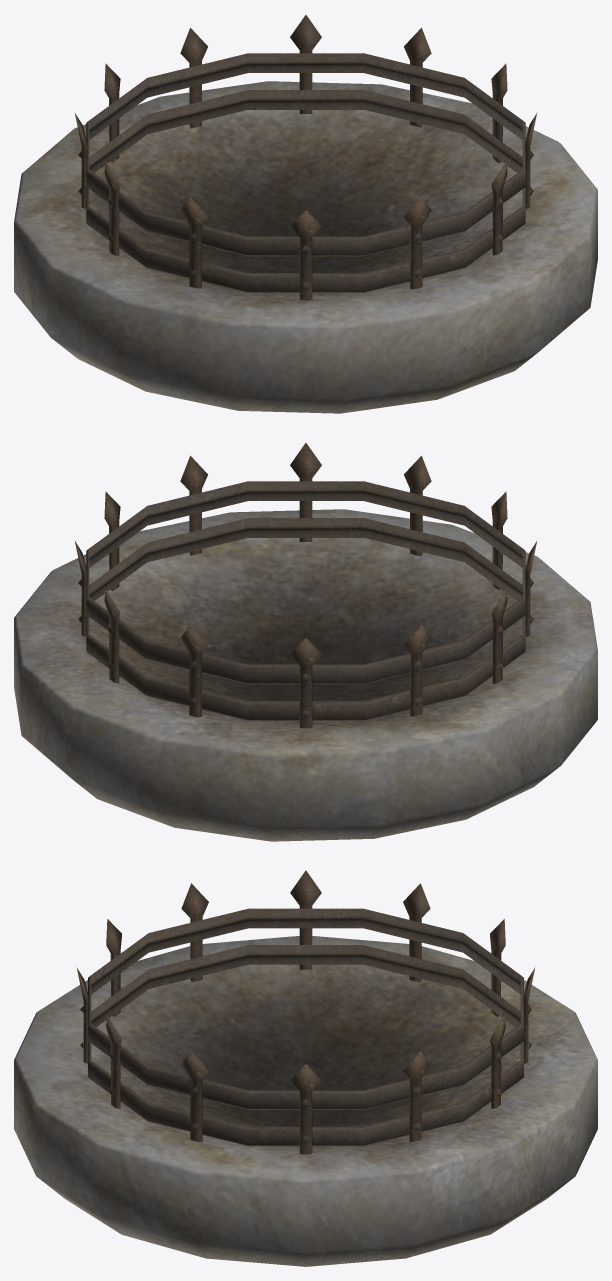
Rendered from cauldron_1U.fbx.
3 renders of one model, top to bottom at view 1: azimuth 30°, elevation 25°; view 2: azimuth 150°, elevation 25°; view 3: azimuth 270°, elevation 25°, orthographic.
Visible parts, largest first — view 1: cauldron_1U; view 2: cauldron_1U; view 3: cauldron_1U.
Boxes of the visible parts, x1,y1,x2,y2 form: cauldron_1U: [14, 15, 597, 413]; cauldron_1U: [14, 443, 597, 841]; cauldron_1U: [14, 870, 597, 1266].
Bounding box in the file's own units: 96 × 34.4 × 96.
